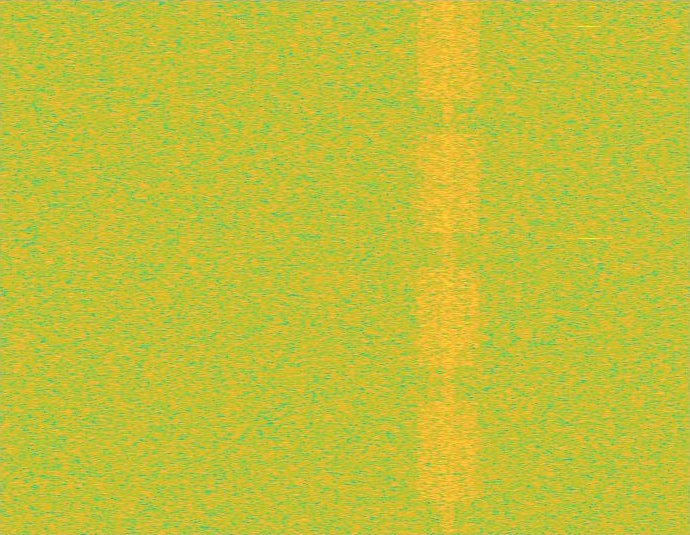5G: (414, 0, 483, 534)
DSSS: (441, 0, 456, 534)
Radar: (582, 0, 596, 534)
